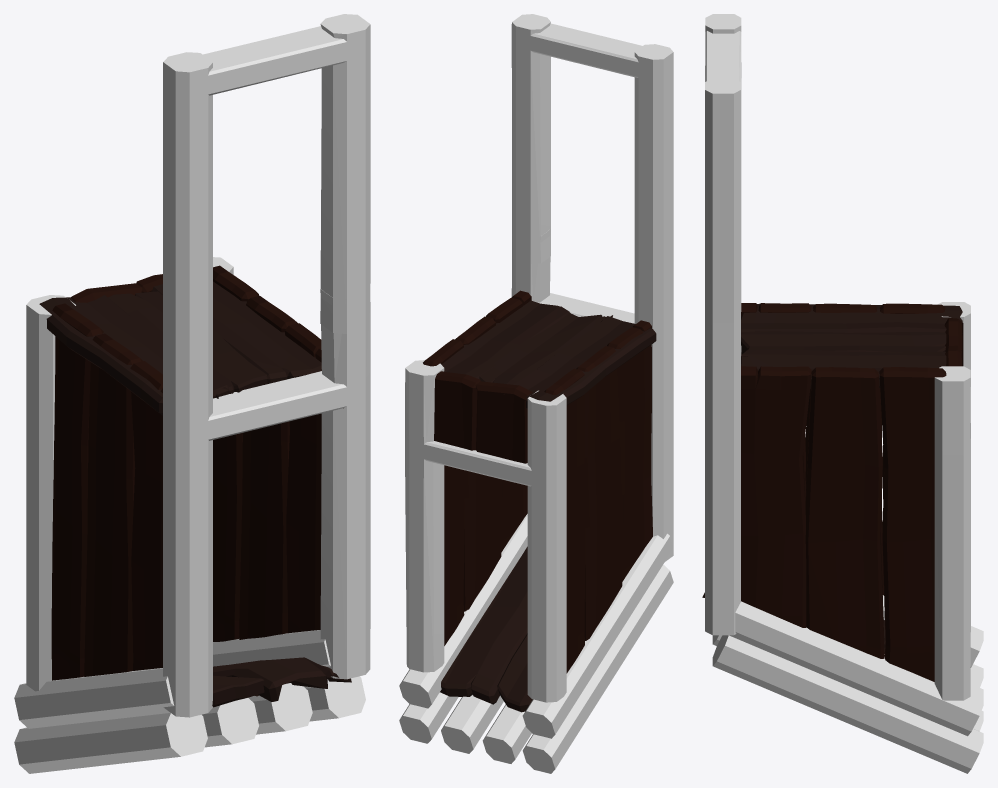
Rendered from AnexBase.fbx.
3 views of the same model, side by side, from view 1: azimuth 30°, elevation 25°; view 2: azimuth 150°, elevation 25°; view 3: azimuth 270°, elevation 25° (orthographic). The views are drawn at different scales.
Visible parts, largest first — view 1: DoorFrame007, DoorFrame010, parede024, parede023, FloorPlanks003, DoorFrame006, Box090, Box088, Box087, Box092, Box091, Box089 (+1 smaller); view 2: DoorFrame006, parede024, DoorFrame010, FloorPlanks003, parede023, DoorFrame007, Box088, Box090, Box087, Plank.177, Plank.178, Box092 (+2 smaller); view 3: parede023, DoorFrame006, FloorPlanks003, DoorFrame010, DoorFrame007, Box089, Box087, parede024, Plank.177.
Part boxes in pixels (x1,y1,x2,y2): DoorFrame007: (163,289,370,717); DoorFrame010: (163,14,370,372); parede024: (51,303,162,680); parede023: (213,265,343,641); FloorPlanks003: (39,281,351,707); DoorFrame006: (26,257,233,691); Box090: (14,713,207,773); Box088: (14,668,174,728); Box087: (213,630,330,666); Box092: (248,683,312,734); Box091: (202,698,258,747); Box089: (304,676,365,721); DoorFrame006: (405,360,566,702); parede024: (544,320,652,673); DoorFrame010: (511,14,673,291); FloorPlanks003: (440,300,656,712); parede023: (423,290,531,645); DoorFrame007: (511,229,673,561); Box088: (522,533,673,738); Box090: (522,564,673,773); Box087: (399,514,527,708); Plank.177: (475,381,532,463); Plank.178: (434,371,480,450); Box092: (441,695,503,753); parede023: (741,366,946,681); DoorFrame006: (934,302,970,700); FloorPlanks003: (702,303,962,653); DoorFrame010: (705,14,741,343); DoorFrame007: (705,248,741,635); Box089: (712,635,983,773); Box087: (728,601,983,736); parede024: (741,303,945,595); Plank.177: (944,318,963,366).
Size of the model in its own units: 408 by 1610 by 601.
